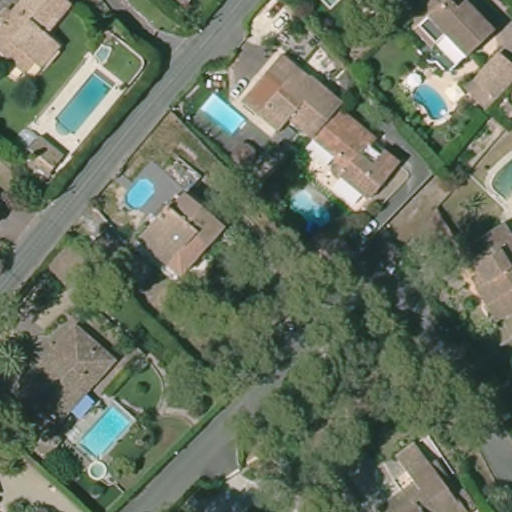pool: (53, 68, 120, 137), (79, 403, 135, 461), (191, 89, 250, 138), (280, 182, 334, 233), (404, 77, 454, 129), (481, 142, 512, 208), (121, 178, 159, 211)
